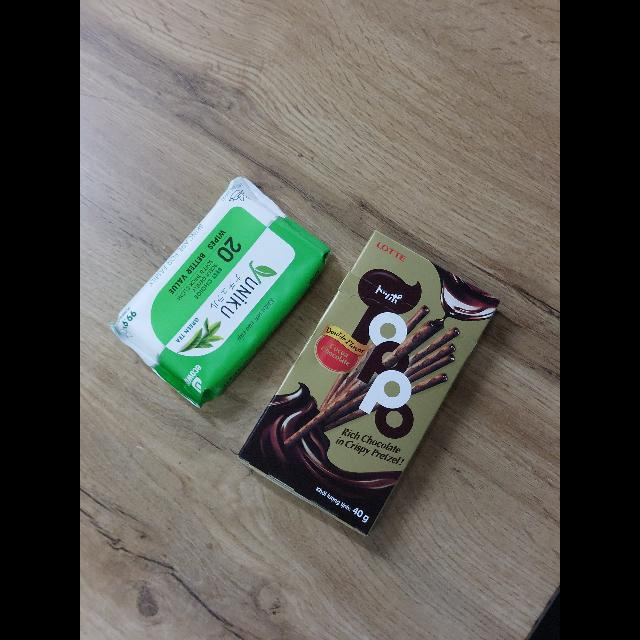banh_toppo_socola: (239, 232, 499, 535)
khan_giay: (111, 177, 330, 407)
